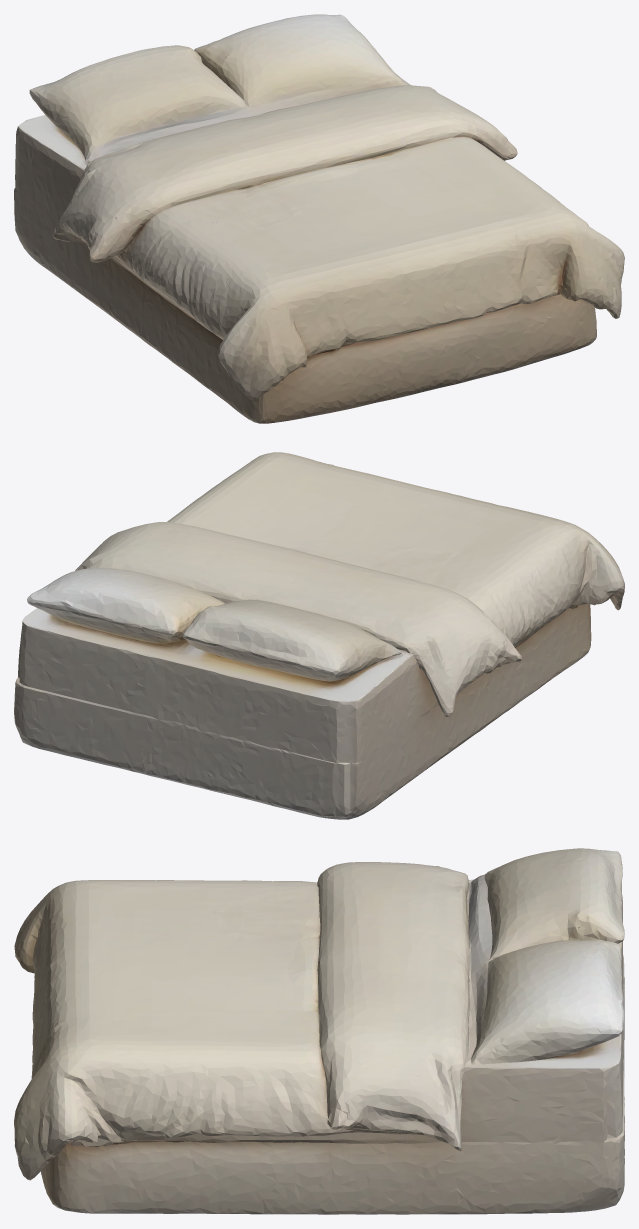
The model's file is ast_ccc6f7405f39.glb.
3 renders of one model, top to bottom at view 1: azimuth 30°, elevation 25°; view 2: azimuth 150°, elevation 25°; view 3: azimuth 270°, elevation 25°, orthographic. The views are drawn at different scales.
Parts seen in each view (by area): view 1: geometry_0; view 2: geometry_0; view 3: geometry_0.
Part boxes in pixels (x1=…): geometry_0: x1=14, y1=14, x2=624, y2=423; geometry_0: x1=14, y1=452, x2=624, y2=819; geometry_0: x1=14, y1=848, x2=624, y2=1214.
Bounding box in the file's own units: 0.9353 × 0.3737 × 0.9992.
Materials: 1 (1 with a texture image).
